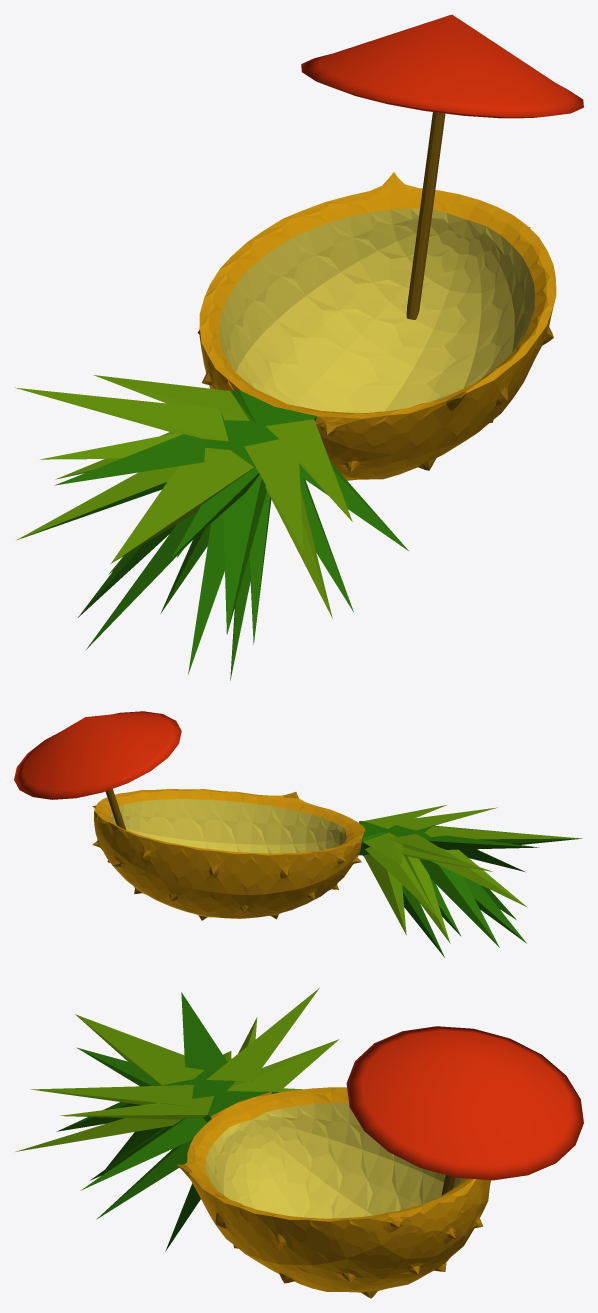
Rendered from pineapple_boat.fbx.
3 views of the same model, one above another, from view 1: azimuth 30°, elevation 25°; view 2: azimuth 150°, elevation 25°; view 3: azimuth 270°, elevation 25° (orthographic). The views are drawn at different scales.
Visible parts, largest first — view 1: pSphere2, pCylinder5; view 2: pSphere2, pCylinder5; view 3: pSphere2, pCylinder5.
Boxes of the visible parts, x1,y1,x2,y2 form: pSphere2: (15,172,556,680); pCylinder5: (301,14,583,319); pSphere2: (92,789,582,957); pCylinder5: (14,711,181,829); pSphere2: (15,988,490,1298); pCylinder5: (346,1026,583,1195).
Size of the model in its own units: 4.49 by 2.7 by 3.85.
